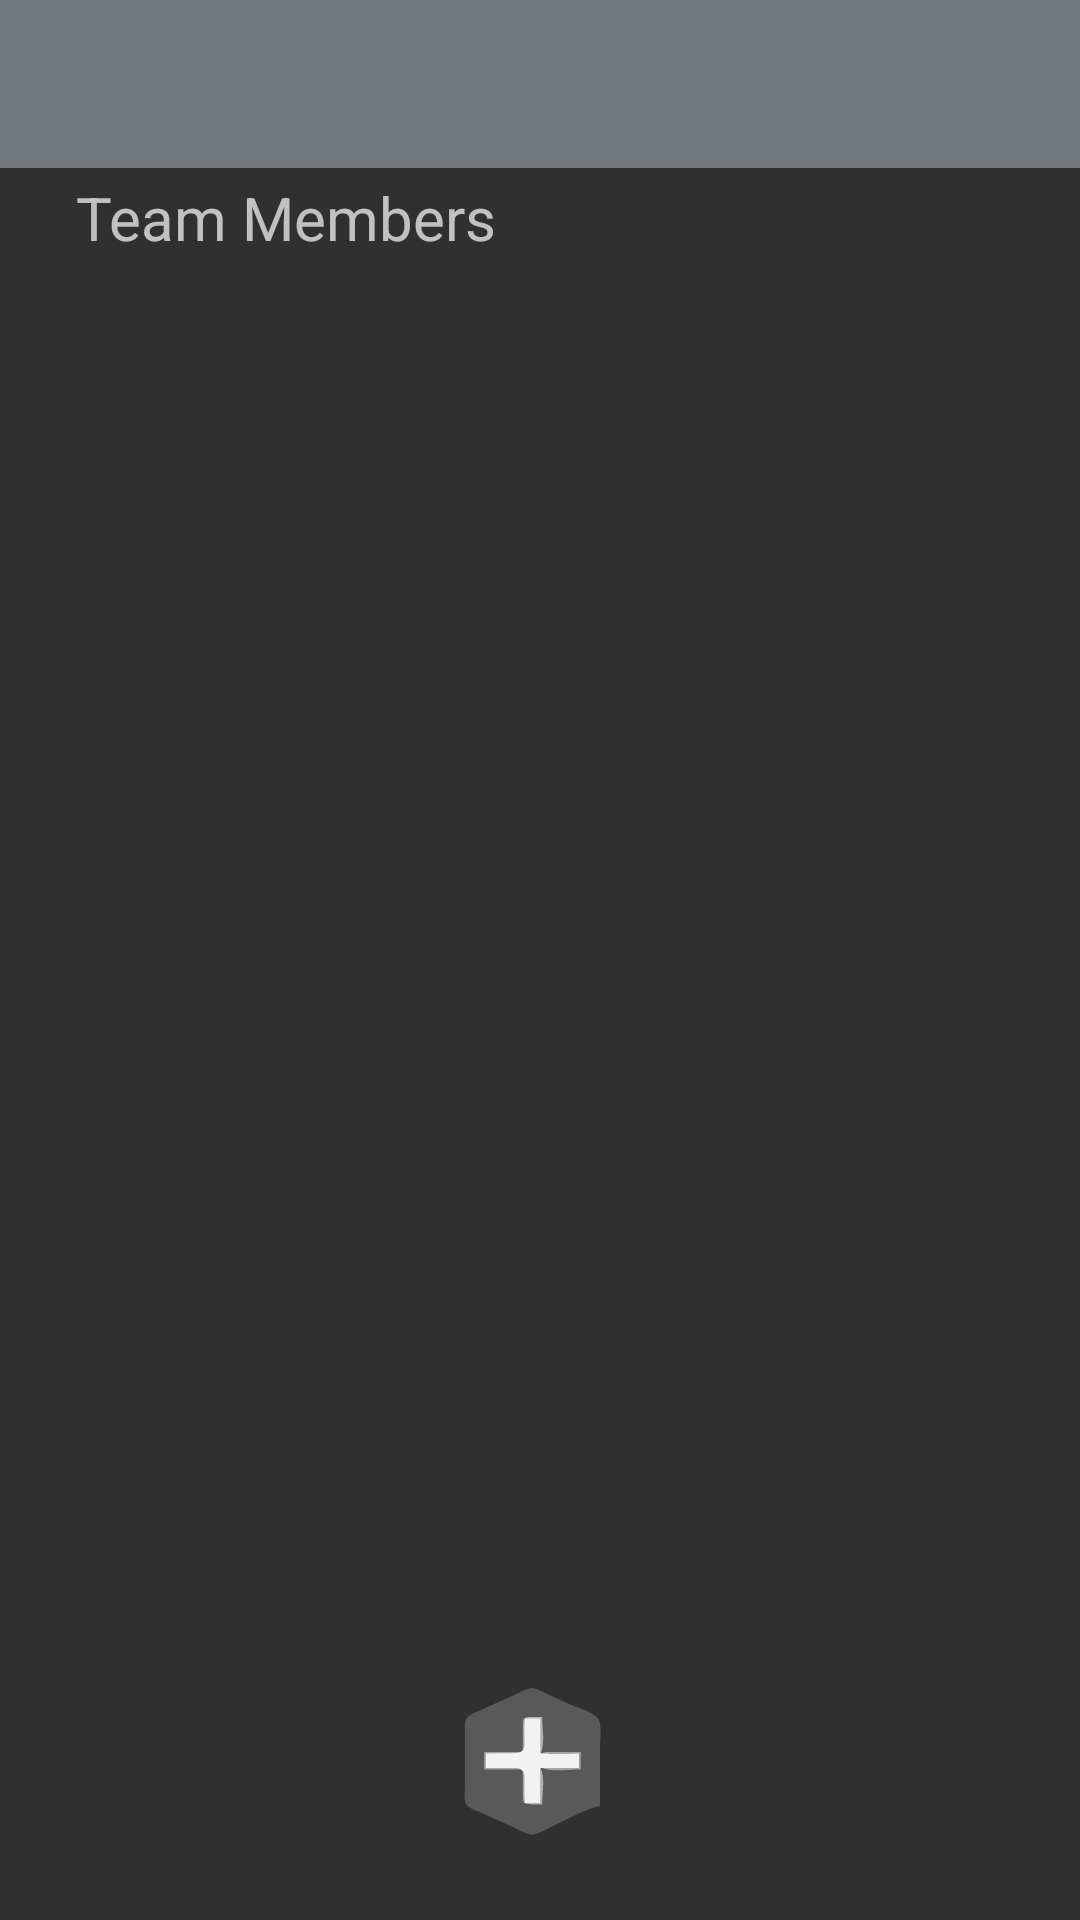

Icon bounding boxes for this 1080*1920 phone screenshot, format (x1, y1, x2, y2):
add sprint: (465, 1688, 600, 1834)
